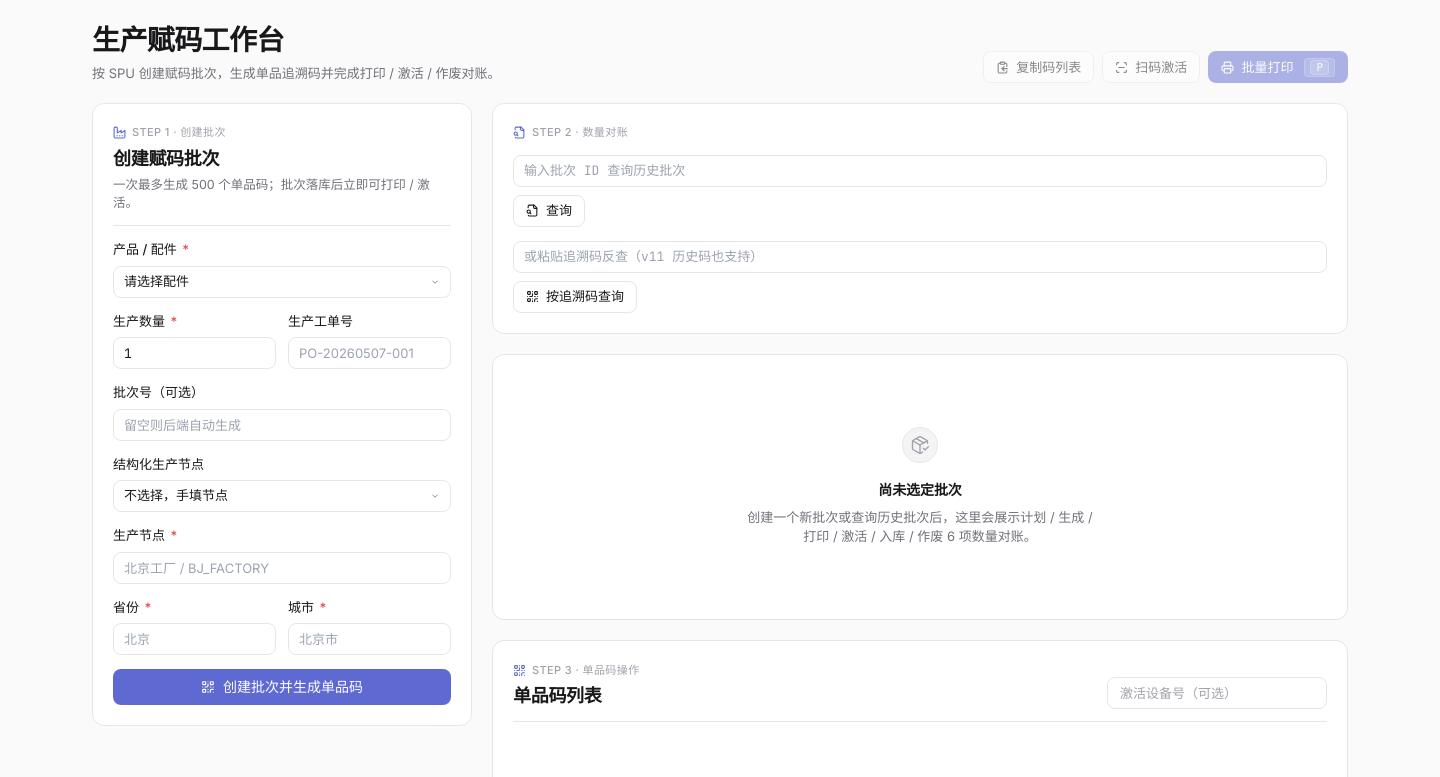
Test: TraceAssignmentWorkbench (Linear shell) › renders 6-up reconciliation cards with snake_case API field mapping
Type "9" into the number field with test id "assignment-lookup-input" at (920, 171), box [513,155,1327,187]
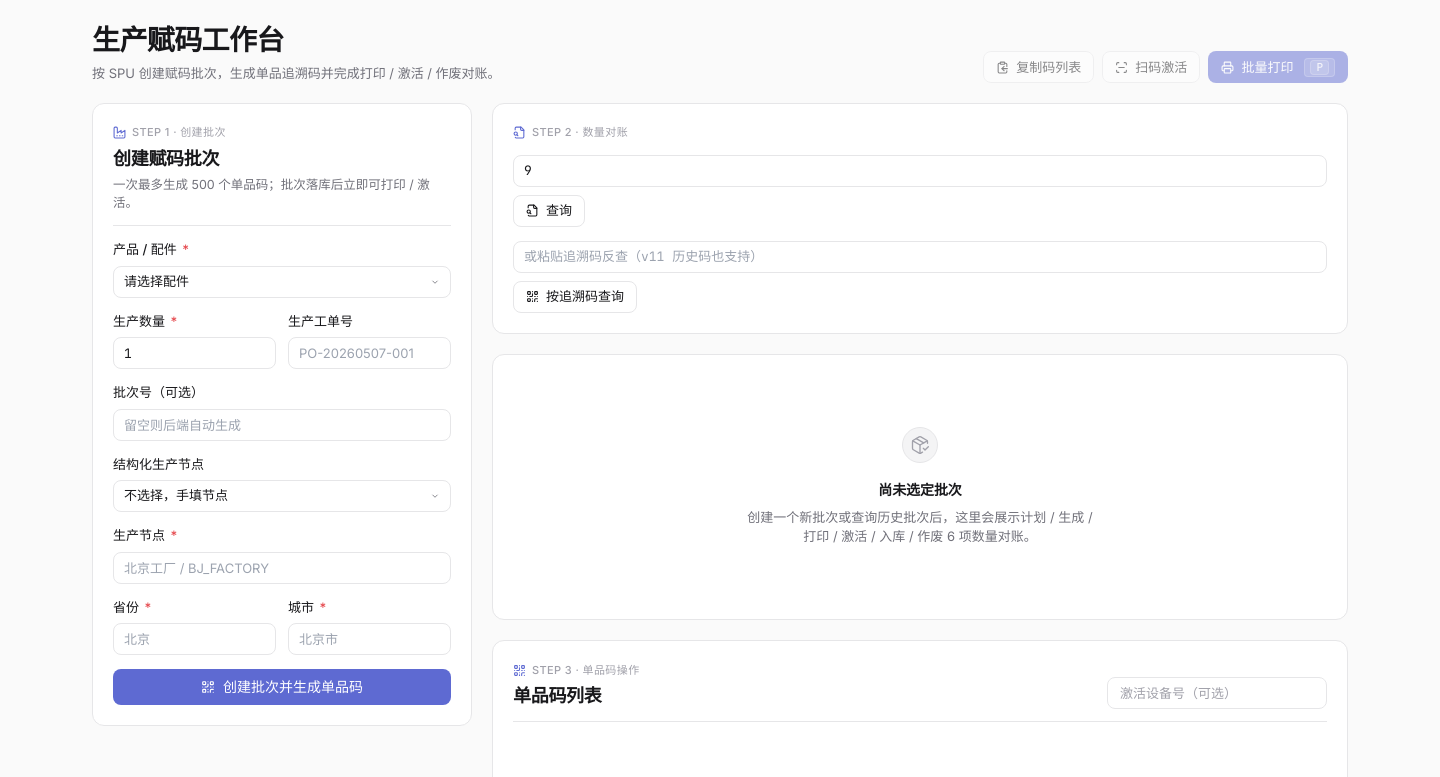
Click the button with test id "assignment-lookup-submit" at (549, 211), box [513,195,585,227]
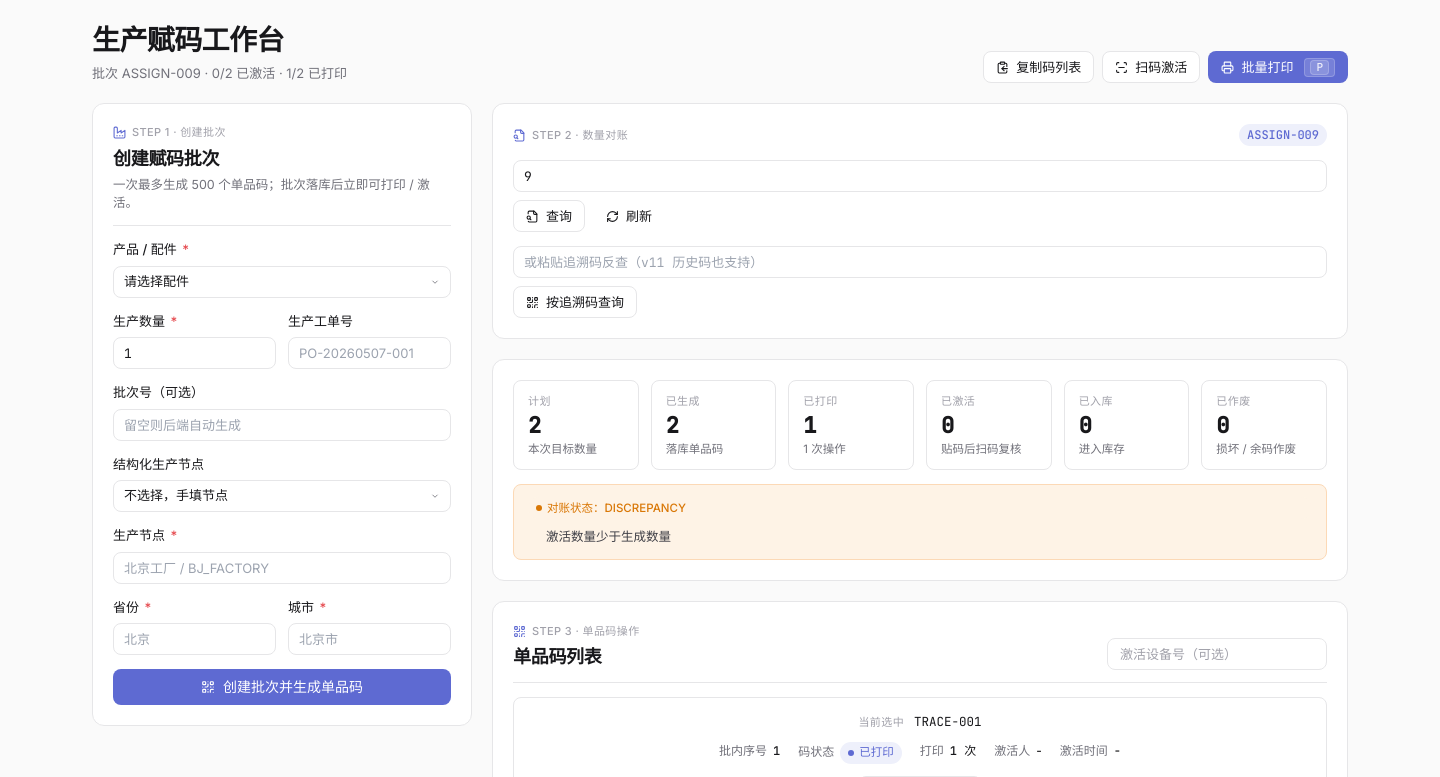
Now the element with test id "assignment-recon-card-requested" is shown, box [513,380,639,470]
Now the element with test id "assignment-recon-card-printed" is shown, box [788,380,914,470]
Now the element with test id "assignment-recon-card-activated" is shown, box [926,380,1052,470]
